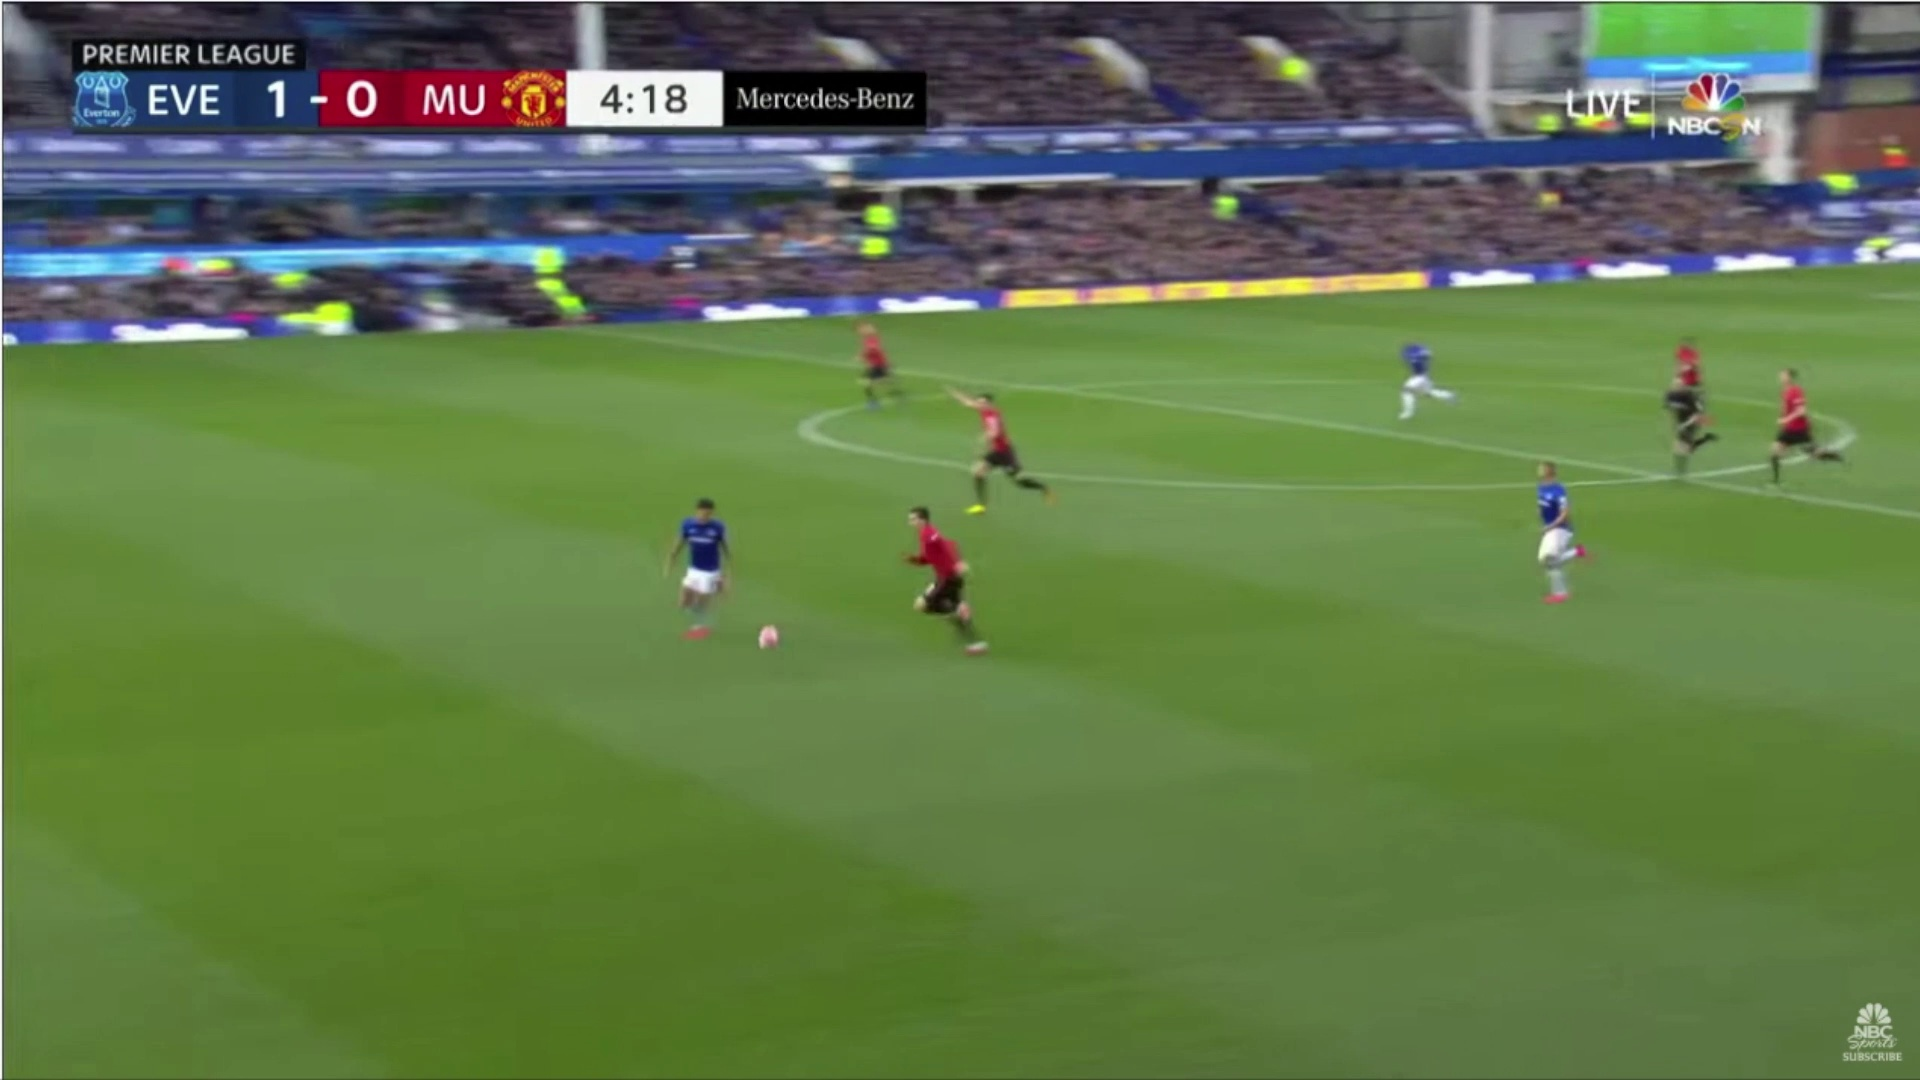ball: (750, 612, 791, 658)
player: (1502, 442, 1618, 631), (1749, 346, 1872, 515), (885, 492, 1004, 663), (935, 369, 1047, 513), (662, 479, 745, 656), (820, 304, 925, 429), (1654, 313, 1739, 431), (1383, 323, 1466, 433)
